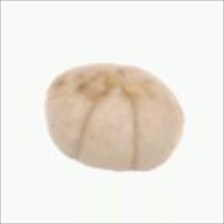L5: (73, 83, 141, 174), (79, 61, 158, 97)
L6: (42, 61, 187, 174)
